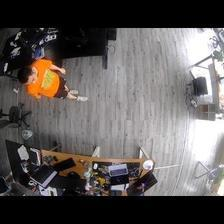normal: (17, 58, 87, 103)
